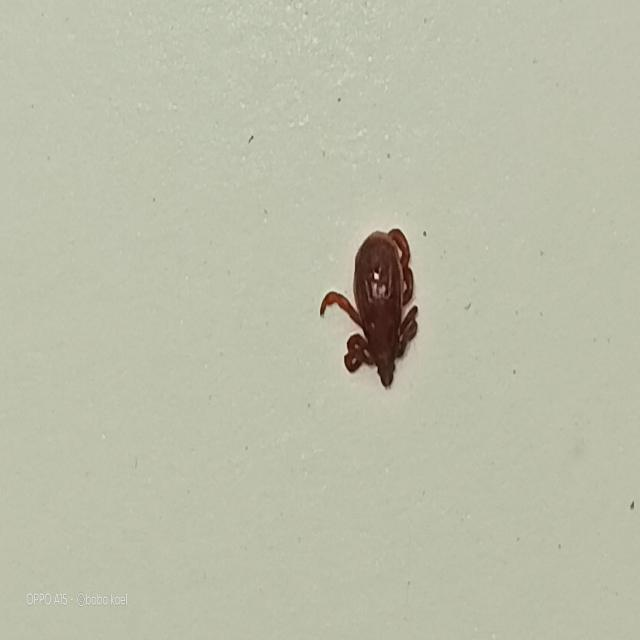Rhipicephalus Sanguineus-M: (320, 229, 420, 390)
